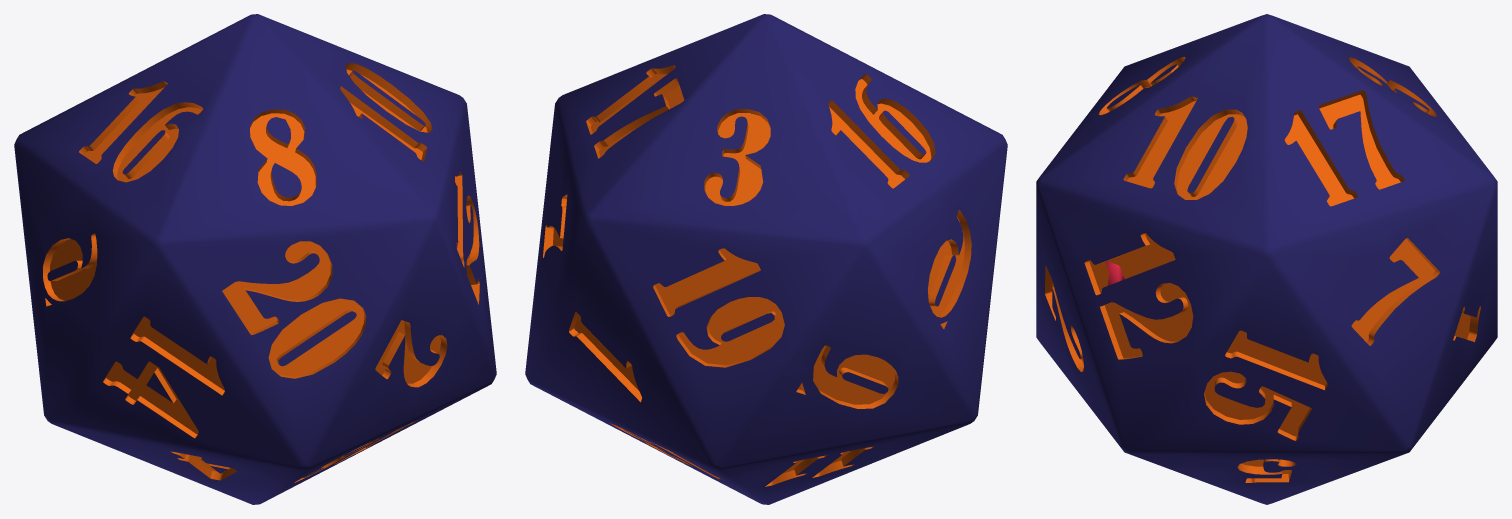
Rendered from dice20b.glb.
3 views of the same model, side by side, from view 1: azimuth 30°, elevation 25°; view 2: azimuth 150°, elevation 25°; view 3: azimuth 270°, elevation 25° (orthographic).
Visible parts, largest first — view 1: A, B; view 2: A, B; view 3: A, B.
Part boxes in pixels (x1,y1,x2,y2): A: [14, 14, 496, 504]; B: [43, 63, 479, 482]; A: [525, 14, 1007, 504]; B: [543, 65, 971, 486]; A: [1036, 14, 1497, 504]; B: [1045, 57, 1480, 482].
Bounding box in the file's own units: 8.89 × 9.83 × 8.46.
